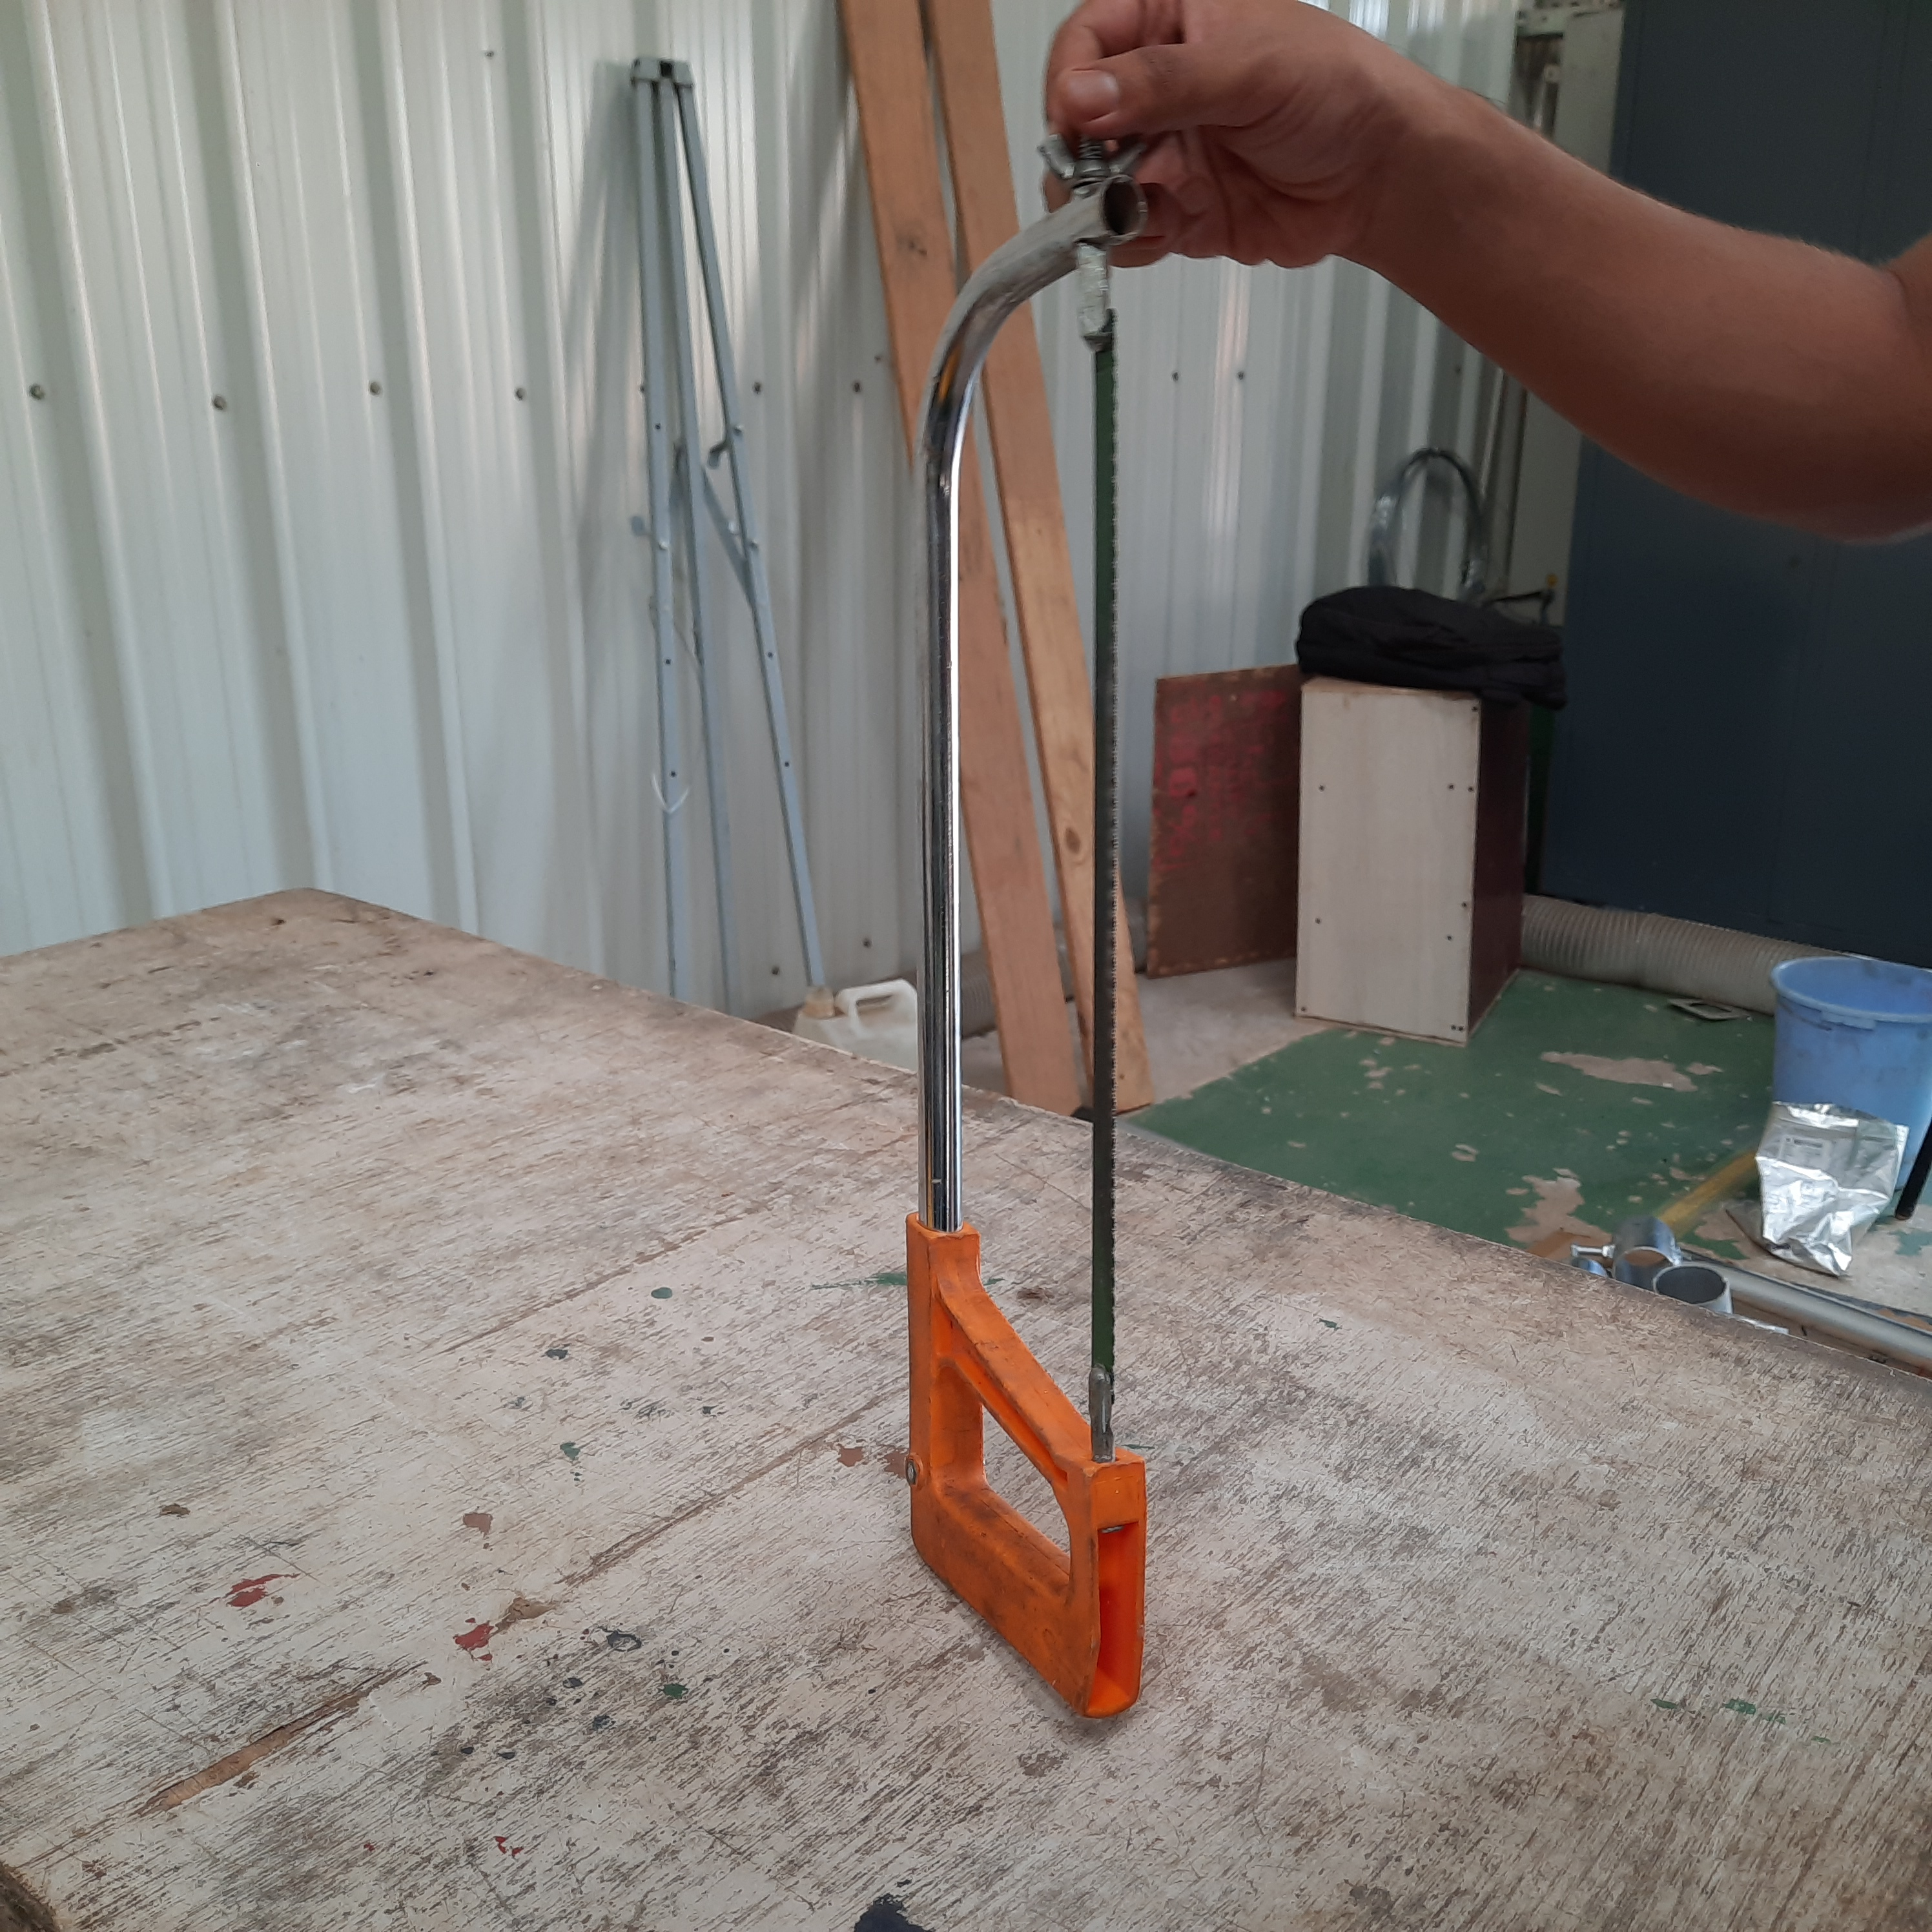Hexaframe: (803, 117, 1215, 1737)
